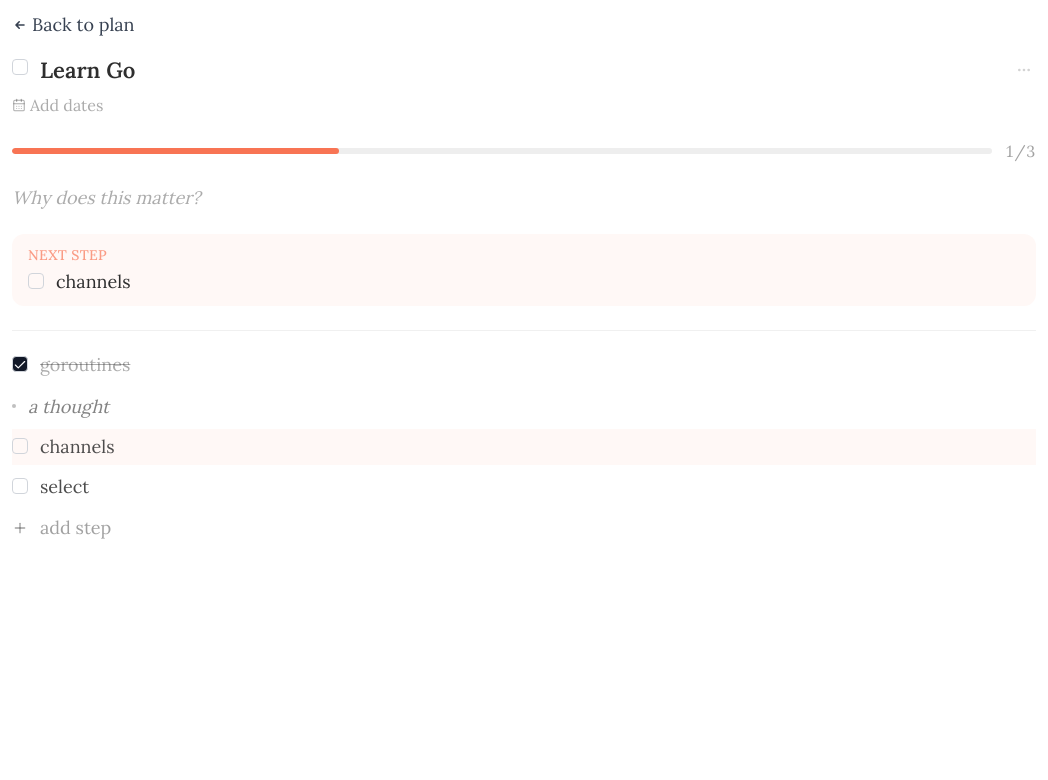
Test: MilestonePage steps and next step › should show the first open task step on its own, marked in the list, and promote the next once ticked (R26, R27)
Expected: the text "channels" is shown, [56, 270, 130, 294]
Step 1. Click the checkbox named "Mark channels done" below "Next step" → (36, 281), box [28, 273, 44, 289]
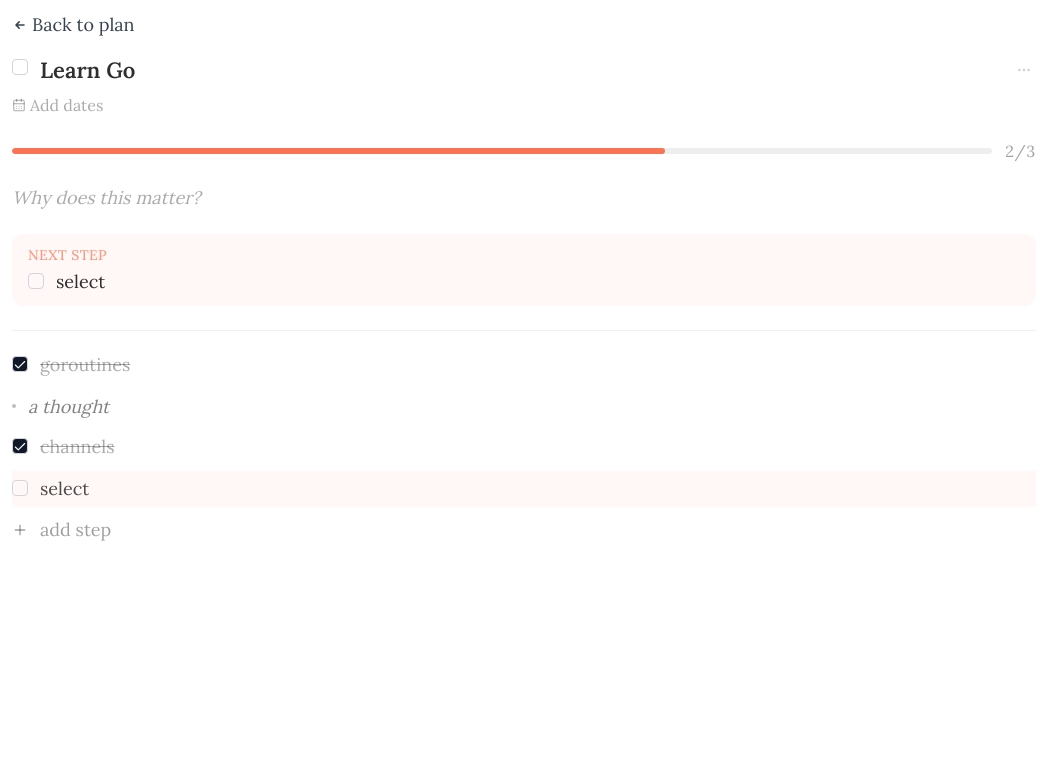
Now the text "select" is shown, box [56, 270, 105, 294]
Now the checkbox named "Mark channels done" is checked, box [12, 438, 28, 454]
